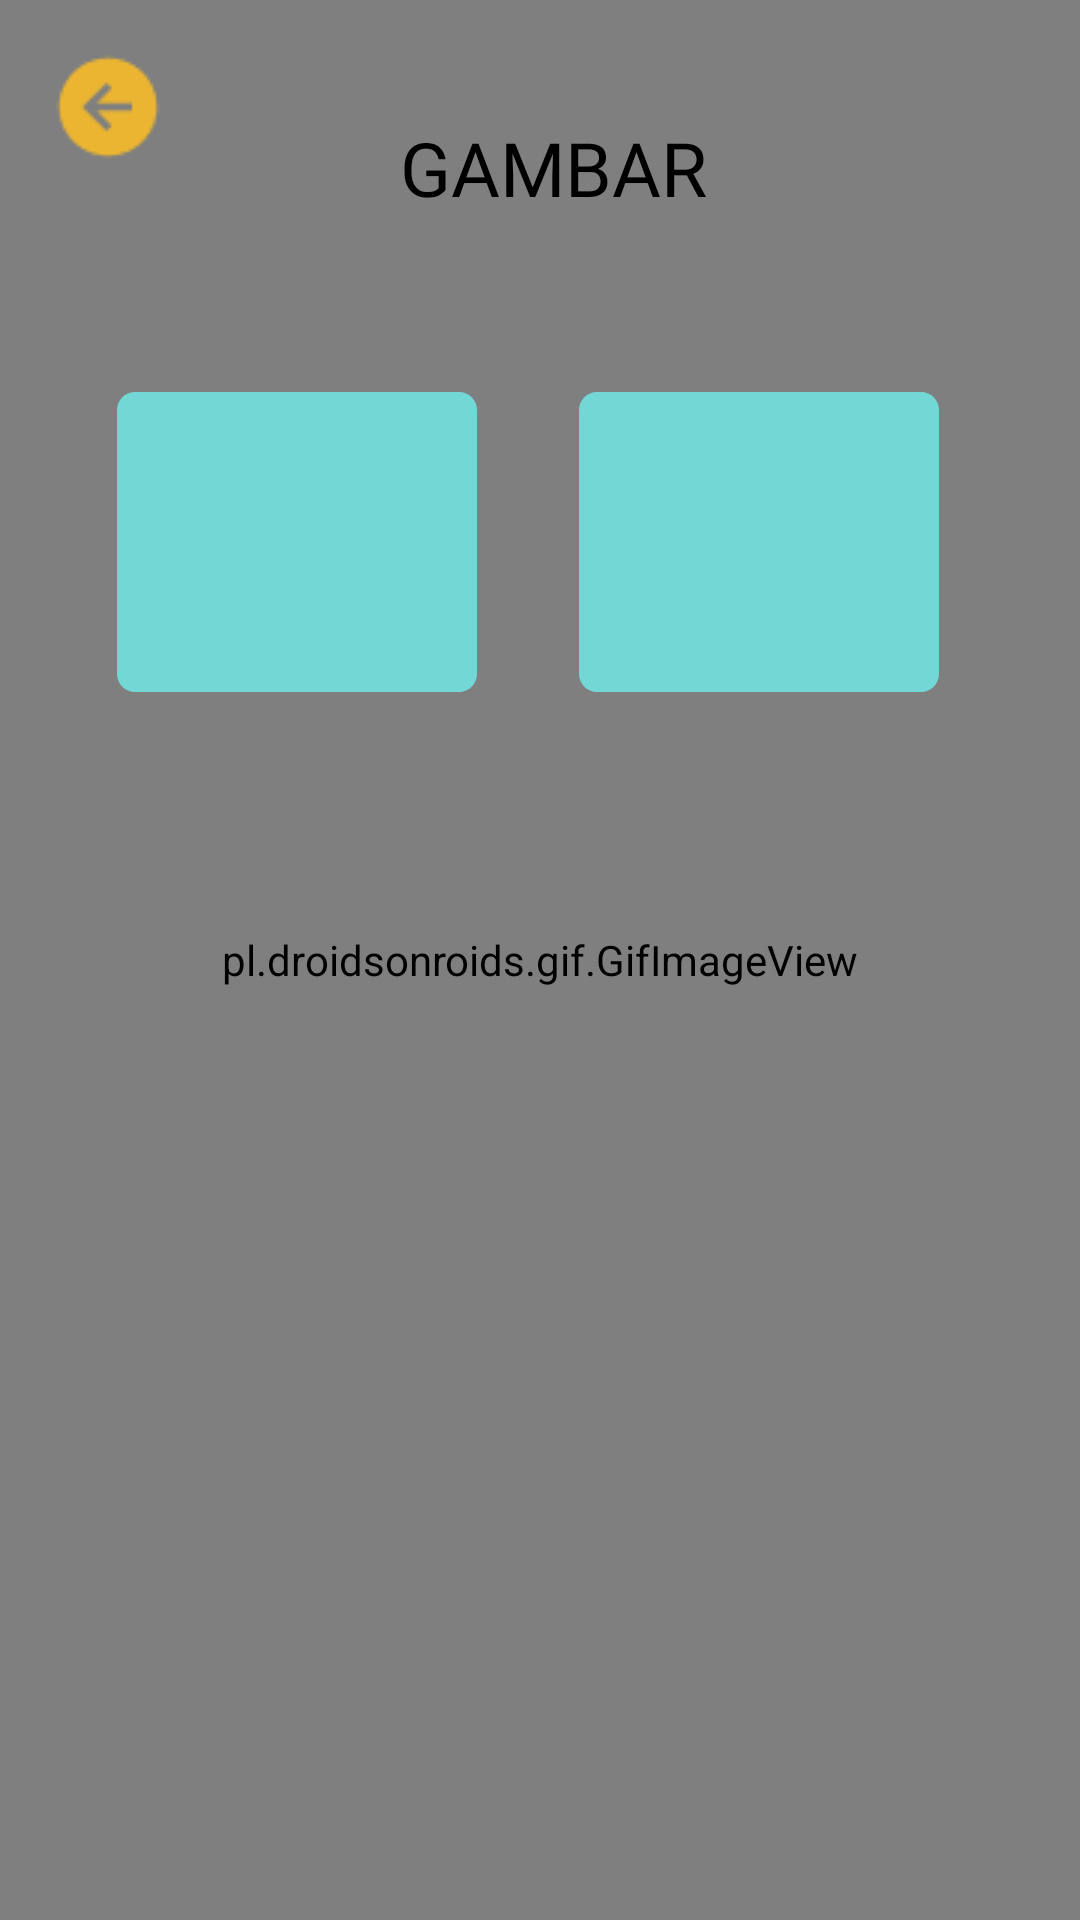

Point at icon controls on the screen. Image size 1080px x 1920px, points as (x,y).
keluar: (108,107)
